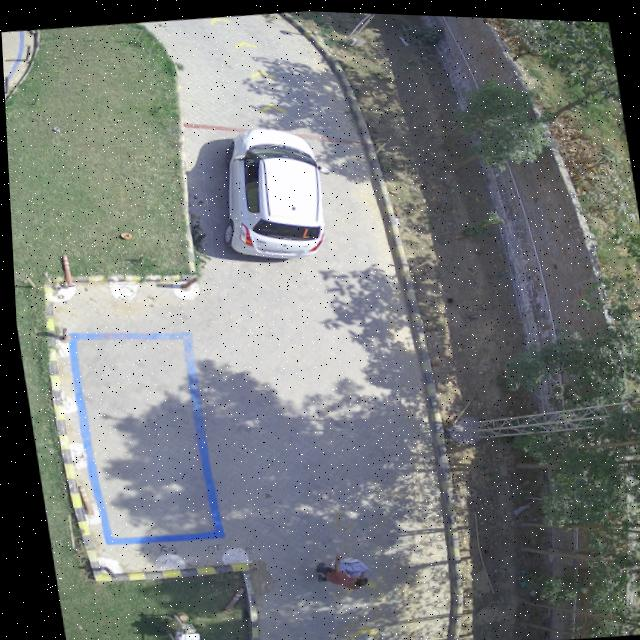car: (221, 126, 325, 257)
